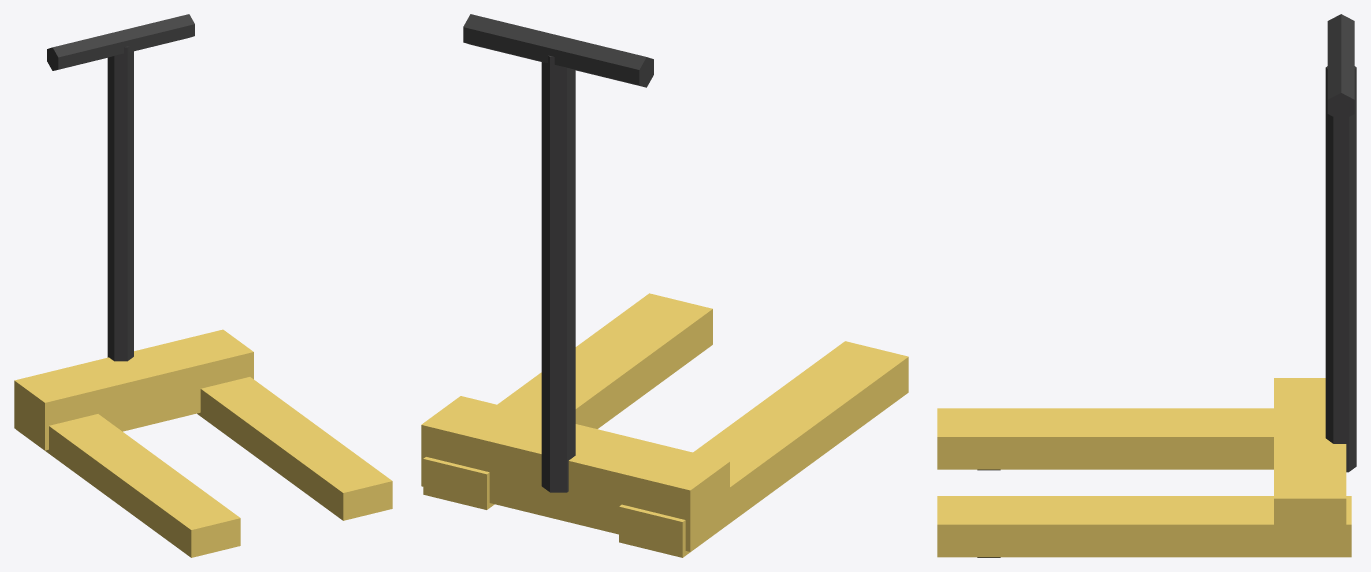
The picture shows the model from 3 angles, left to right: view 1: azimuth 30°, elevation 25°; view 2: azimuth 150°, elevation 25°; view 3: azimuth 270°, elevation 25°; orthographic projection. The views are drawn at different scales.
Parts seen in each view (by area): view 1: Fork chassis, Fork.001, Fork, Handle, Grip; view 2: Fork chassis, Fork, Fork.001, Handle, Grip; view 3: Fork.001, Fork, Fork chassis, Handle, Grip.
Part boxes in pixels (x1,y1,x2,y2): Fork chassis: (14, 329, 253, 450); Fork.001: (197, 377, 392, 520); Fork: (16, 414, 240, 557); Handle: (107, 46, 133, 361); Grip: (47, 14, 194, 70); Fork chassis: (421, 396, 729, 551); Fork: (619, 341, 908, 557); Fork.001: (423, 293, 712, 509); Handle: (541, 55, 575, 492); Grip: (463, 14, 653, 87); Fork.001: (937, 496, 1351, 557); Fork: (937, 408, 1273, 469); Fork chassis: (1274, 378, 1346, 554); Handle: (1325, 66, 1356, 472); Grip: (1327, 14, 1354, 120).
Size of the model in its own units: 55 by 98 by 81.
